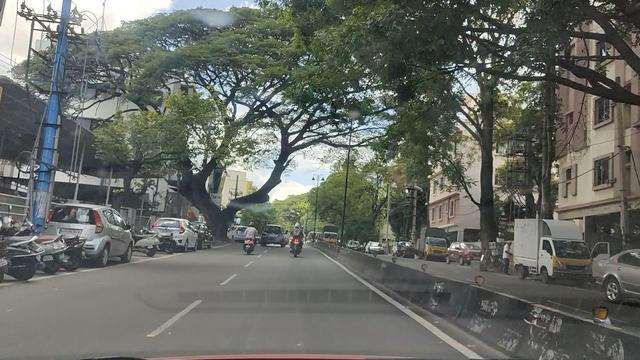LMV: (44, 198, 138, 269), (288, 221, 309, 251), (244, 218, 258, 252)
